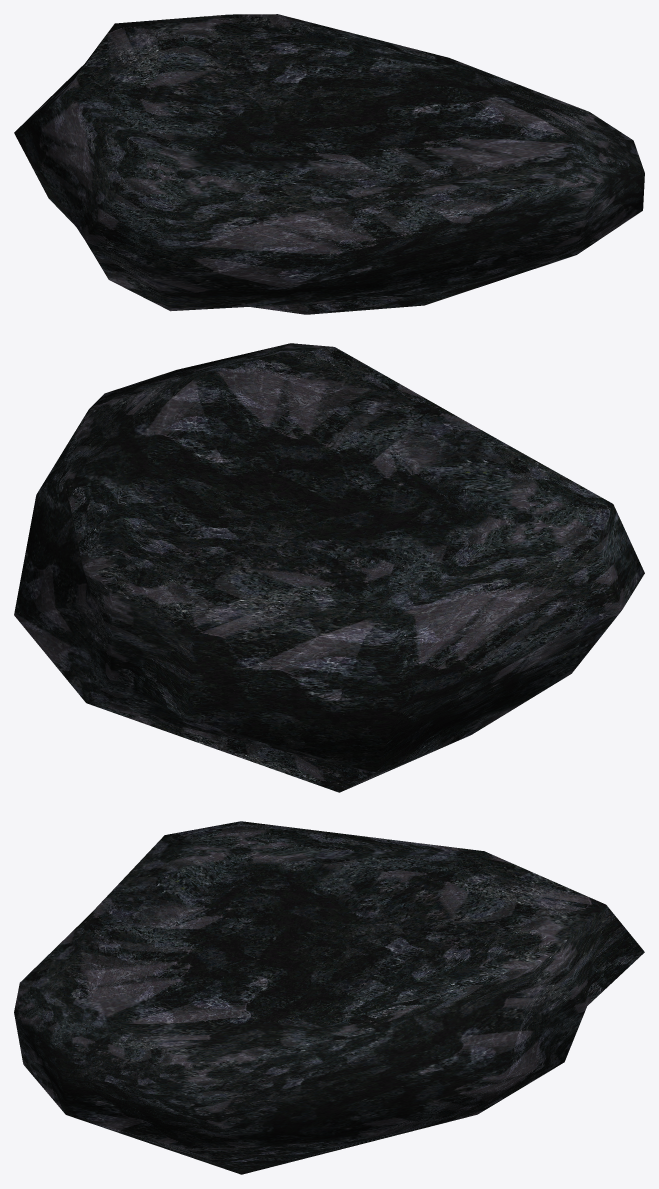
File: asteroid_obsidian_radial_s01_l1.fbx
The picture shows the model from 3 angles, top to bottom: view 1: azimuth 30°, elevation 25°; view 2: azimuth 150°, elevation 25°; view 3: azimuth 270°, elevation 25°; orthographic projection. The views are drawn at different scales.
Visible parts, largest first — view 1: mesh_node; view 2: mesh_node; view 3: mesh_node.
Part boxes in pixels (left/top/right/bottom): mesh_node: left=14, top=14, right=644, bottom=314; mesh_node: left=14, top=343, right=644, bottom=792; mesh_node: left=14, top=821, right=644, bottom=1174.
Size of the model in its own units: 5.04 by 1.89 by 5.27.
